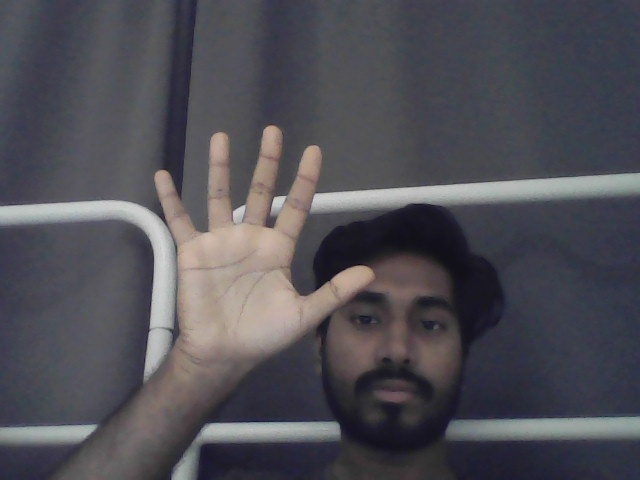hello: (153, 124, 376, 366)
